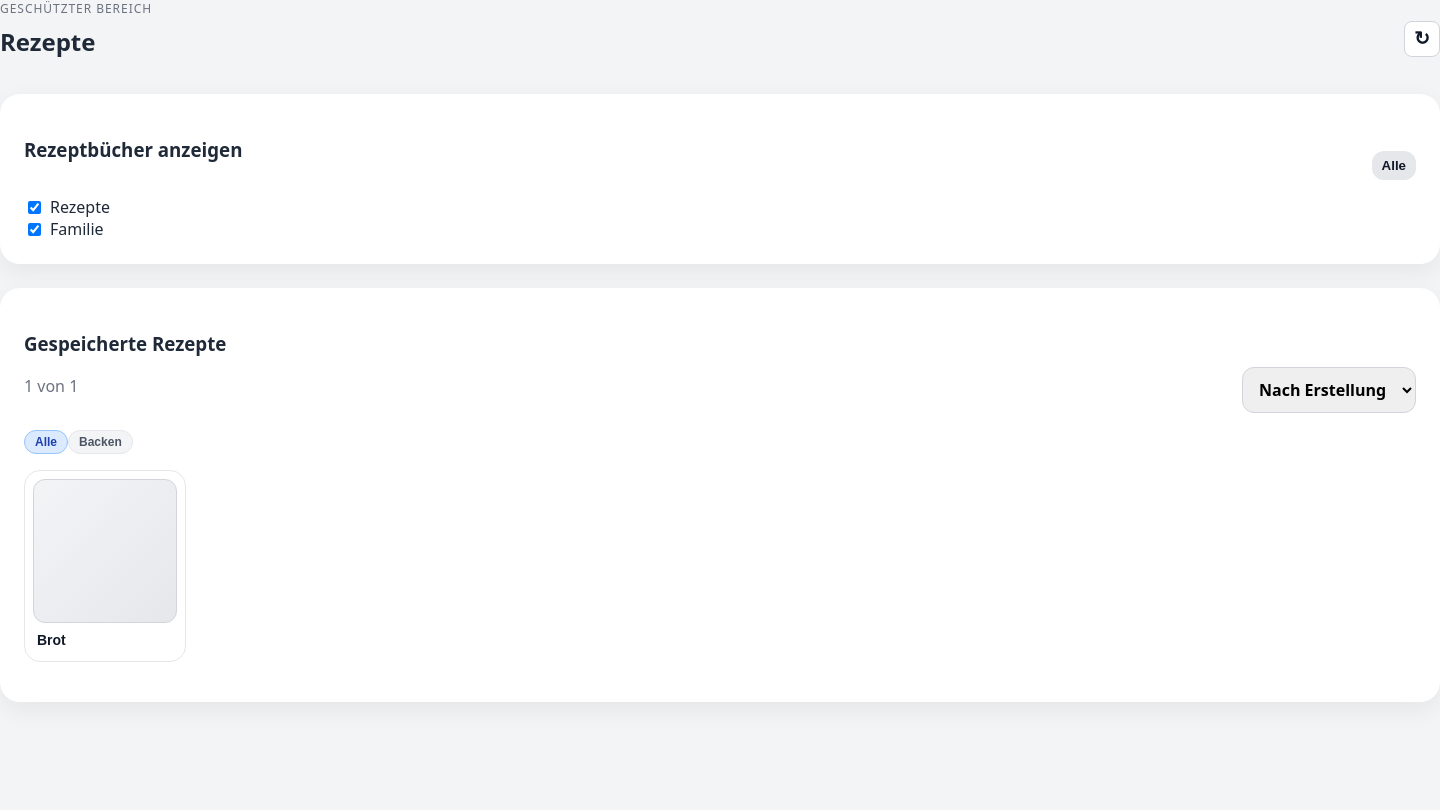
Test case: RecipeSection › shows recipe details when the list item is viewed
Check: the text "Brot" is shown, box [37,632,66,648]
Click the button with aria-label "Rezept anzeigen Brot" at (105, 566), box [24,470,186,662]
(page scrolled)
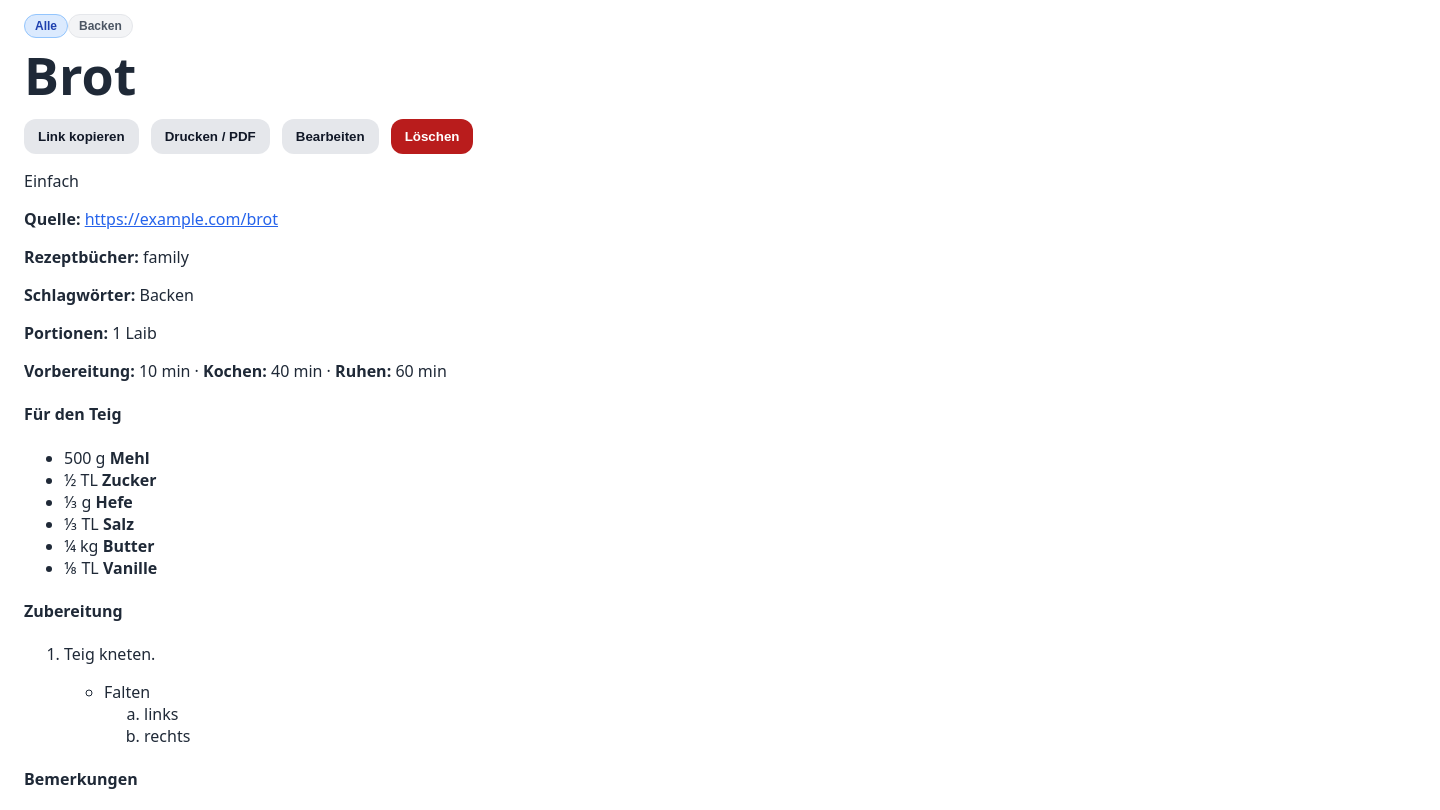
Check: the element with class "recipe-detail-title" shows "Einfach", box [24,170,79,192]
Check: the element with class "recipe-detail-title" shows "https://example.com/brot", box [85,208,278,230]
Check: the element with class "recipe-detail-title" shows "Mehl", box [110,447,150,469]
